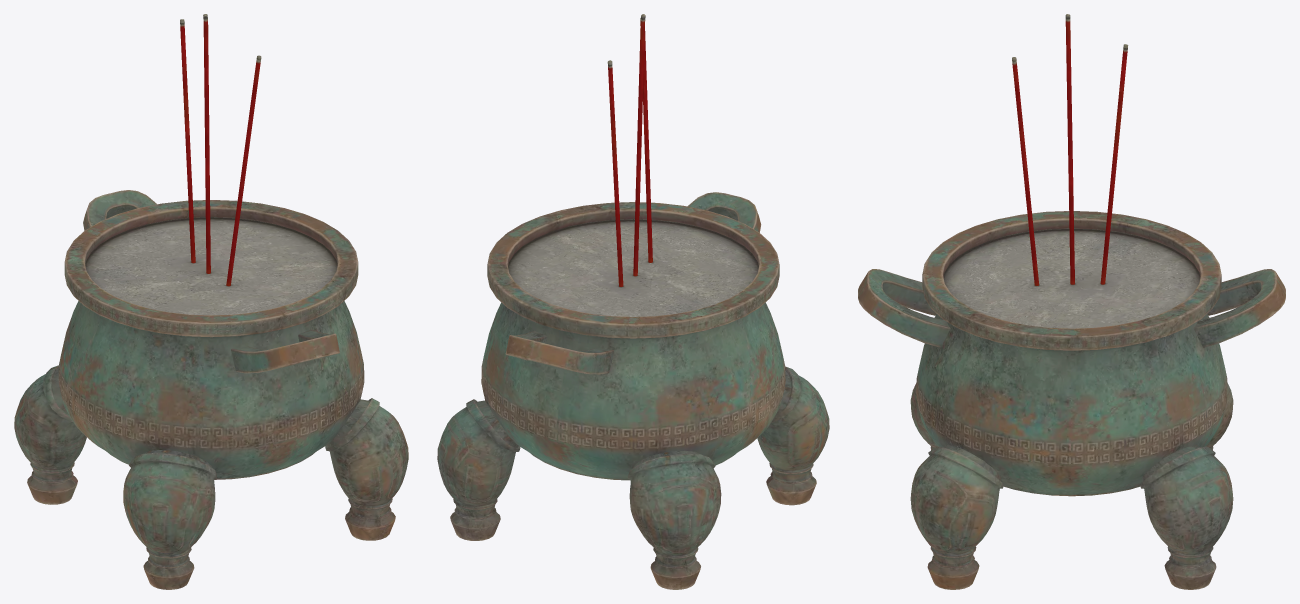
The model's file is encensoir.glb.
The picture shows the model from 3 angles, left to right: view 1: azimuth 30°, elevation 25°; view 2: azimuth 150°, elevation 25°; view 3: azimuth 270°, elevation 25°; orthographic projection. The views are drawn at different scales.
Visible parts, largest first — view 1: bashou_low_xianglu_t_0; view 2: bashou_low_xianglu_t_0; view 3: bashou_low_xianglu_t_0.
Part boxes in pixels (<box>): bashou_low_xianglu_t_0: <box>14,14,408,589</box>; bashou_low_xianglu_t_0: <box>437,14,829,589</box>; bashou_low_xianglu_t_0: <box>858,14,1285,589</box>.
Bounding box in the file's own units: 0.0198 × 0.0348 × 0.0263.
1 material, 1 textured.
